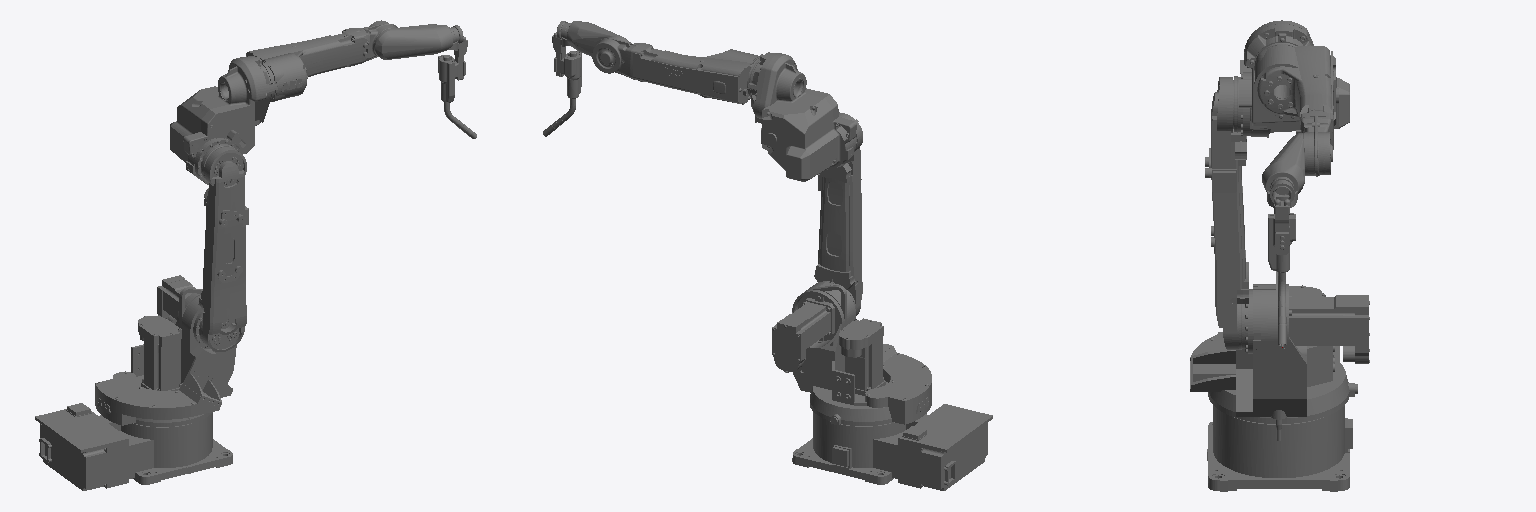
URDF robot description (abb_irb1520id):
<?xml version="1.0"?>
<robot name="abb_irb1520id" xmlns:xacro="http://ros.org/wiki/xacro">
  <!-- Added inertial properties from Mujoco model -->
  <link name="base_link">
    <inertial>
      <origin xyz="-0.122799 0.000948 -0.092564"/>
      <mass value="16.85"/>
      <inertia ixx="0.1790" iyy="0.4590" izz="0.5590" ixy="0" ixz="0" iyz="0"/>
    </inertial>
    <visual>
      <origin rpy="0 0 0" xyz="0 0 1.7993"/>
      <geometry>
        <mesh filename="./meshes/irb1520id/stl/visual/base.stl" scale="0.01 0.01 0.01"/>
      </geometry>
      <material name="abb_orange">
        <color rgba="0.5 0.5 0.5 1"/>
      </material>
    </visual>
    <collision>
      <origin rpy="0 0 0" xyz="0 0 1.7993"/>
      <geometry>
        <mesh filename="./meshes/irb1520id/stl/collision/base.stl" scale="0.01 0.01 0.01"/>
      </geometry>
    </collision>
  </link>

  <link name="link_1">
    <inertial>
      <origin xyz="0.057107 0.188932 -0.000607"/>
      <mass value="14.04"/>
      <inertia ixx="0.2485" iyy="0.2724" izz="0.3329" ixy="0" ixz="0" iyz="0"/>
    </inertial>
    <visual>
      <origin rpy="1.5708 0 0" xyz="0 0 1.2693"/>
      <geometry>
        <mesh filename="./meshes/irb1520id/stl/visual/link1.stl" scale="0.01 0.01 0.01"/>
      </geometry>
      <material name="abb_orange"/>
    </visual>
    <collision>
      <origin rpy="1.5708 0 0" xyz="0 0 1.2693"/>
      <geometry>
        <mesh filename="./meshes/irb1520id/stl/collision/link1.stl" scale="0.01 0.01 0.01"/>
      </geometry>
    </collision>
  </link>

  <joint name="joint_1" type="revolute">
    <origin rpy="0 0 0" xyz="0 0 0"/>
    <parent link="base_link"/>
    <child link="link_1"/>
    <axis xyz="0 0 -1"/>
    <limit effort="150" lower="-2.9670" upper="2.9670" velocity="3.142"/>
    <dynamics damping="0.5" friction="0.2"/>
  </joint>

  <link name="link_2">
    <inertial>
      <origin xyz="0.000705 0.290047 0.035494"/>
      <mass value="4.1091"/>
      <inertia ixx="0.1373" iyy="0.007032" izz="0.1407" ixy="0" ixz="0" iyz="0"/>
    </inertial>
    <visual>
      <origin rpy="1.5708 0 0" xyz="0 0 0"/>
      <geometry>
        <mesh filename="./meshes/irb1520id/stl/visual/link2.stl" scale="0.01 0.01 0.01"/>
      </geometry>
      <material name="abb_orange"/>
    </visual>
    <collision>
      <origin rpy="1.5708 0 0" xyz="0 0 0"/>
      <geometry>
        <mesh filename="./meshes/irb1520id/stl/collision/link2.stl" scale="0.01 0.01 0.01"/>
      </geometry>
    </collision>
  </link>

  <joint name="joint_2" type="revolute">
    <origin rpy="0 0 0" xyz="1.6 -0.9 4.5693"/>
    <parent link="link_1"/>
    <child link="link_2"/>
    <axis xyz="0 1 0"/>
    <limit effort="150" lower="-1.5708" upper="2.6180" velocity="3.142"/>
    <dynamics damping="0.5" friction="0.2"/>
  </joint>

  <link name="link_3">
    <inertial>
      <origin xyz="0.06548 0.078265 -0.134469"/>
      <mass value="0.07683"/>
      <inertia ixx="0.009718" iyy="0.008392" izz="0.01046" ixy="0" ixz="0" iyz="0"/>
    </inertial>
    <visual>
      <origin rpy="1.5708 0 0" xyz="0 0 0"/>
      <geometry>
        <mesh filename="./meshes/irb1520id/stl/visual/link3.stl" scale="0.01 0.01 0.01"/>
      </geometry>
      <material name="abb_orange"/>
    </visual>
    <collision>
      <origin rpy="1.5708 0 0" xyz="0 0 0"/>
      <geometry>
        <mesh filename="./meshes/irb1520id/stl/collision/link3.stl" scale="0.01 0.01 0.01"/>
      </geometry>
    </collision>
  </link>

  <joint name="joint_3" type="revolute">
    <origin rpy="0 0 0" xyz="0 -0.23 5.9255"/>
    <parent link="link_2"/>
    <child link="link_3"/>
    <axis xyz="0 1 0"/>
    <limit effort="150" lower="-1.7453" upper="1.3963" velocity="3.142"/>
    <dynamics damping="0.5" friction="0.2"/>
  </joint>

  <link name="link_4">
    <inertial>
      <origin xyz="-0.057844 0.001716 -0.257144"/>
      <mass value="0.01018"/>
      <inertia ixx="0.008611" iyy="0.008908" izz="0.008138" ixy="0" ixz="0" iyz="0"/>
    </inertial>
    <visual>
      <origin rpy="0 -1.5708 0" xyz="0 0 0"/>
      <geometry>
        <mesh filename="./meshes/irb1520id/stl/visual/link4.stl" scale="0.01 0.01 0.01"/>
      </geometry>
      <material name="abb_orange"/>
    </visual>
    <collision>
      <origin rpy="0 -1.5708 0" xyz="0 0 0"/>
      <geometry>
        <mesh filename="./meshes/irb1520id/stl/collision/link4.stl" scale="0.01 0.01 0.01"/>
      </geometry>
    </collision>
  </link>

  <joint name="joint_4" type="revolute">
    <origin rpy="1.5708 0 0" xyz="2.17 1.21677 2"/>
    <parent link="link_3"/>
    <child link="link_4"/>
    <axis xyz="1 0 0"/>
    <limit effort="150" lower="-2.7053" upper="2.7053" velocity="5.585"/>
    <dynamics damping="0.5" friction="0.2"/>
  </joint>

  <link name="link_5">
    <inertial>
      <origin xyz="0.079912 0.000066 0.025079"/>
      <mass value="0.004108"/>
      <inertia ixx="0.00005014" iyy="0.0002404" izz="0.0002399" ixy="0" ixz="0" iyz="0"/>
    </inertial>
    <visual>
      <origin rpy="0 0 0" xyz="0 0 0"/>
      <geometry>
        <mesh filename="./meshes/irb1520id/stl/visual/link5.stl" scale="0.01 0.01 0.01"/>
      </geometry>
      <material name="abb_orange"/>
    </visual>
    <collision>
      <origin rpy="0 0 0" xyz="0 0 0"/>
      <geometry>
        <mesh filename="./meshes/irb1520id/stl/collision/link5.stl" scale="0.01 0.01 0.01"/>
      </geometry>
    </collision>
  </link>

  <joint name="joint_5" type="revolute">
    <origin rpy="0 0 0" xyz="5.0637 0 -0.51885"/>
    <parent link="link_4"/>
    <child link="link_5"/>
    <axis xyz="0 0 1"/>
    <limit effort="150" lower="-2.3562" upper="2.3562" velocity="6.632"/>
    <dynamics damping="0.5" friction="0.2"/>
  </joint>

  <link name="link_6">
    <inertial>
      <origin xyz="0.000015 -0.000103 -0.013642"/>
      <mass value="0.000710"/>
      <inertia ixx="0.000005086" iyy="0.000005109" izz="0.000005635" ixy="0" ixz="0" iyz="0"/>
    </inertial>
    <visual>
      <origin rpy="0 1.5708 0" xyz="0 0 0"/>
      <geometry>
        <mesh filename="./meshes/irb1520id/stl/visual/link6.stl" scale="0.01 0.01 0.01"/>
      </geometry>
      <material name="abb_orange"/>
    </visual>
    <collision>
      <origin rpy="0 1.5708 0" xyz="0 0 0"/>
      <geometry>
        <mesh filename="./meshes/irb1520id/stl/collision/link6.stl" scale="0.01 0.01 0.01"/>
      </geometry>
    </collision>
  </link>

  <joint name="joint_6" type="revolute">
    <origin rpy="3.1416 3.1416 0" xyz="1.9 0 0.525"/>
    <parent link="link_5"/>
    <child link="link_6"/>
    <axis xyz="1 0 0"/>
    <limit effort="150" lower="-3.4907" upper="3.4907" velocity="8.029"/>
    <dynamics damping="0.5" friction="0.2"/>
  </joint>

  <link name="tool0">
    <inertial>
      <origin xyz="-0.001299 0.017065 0.125009"/>
      <mass value="0.0004342998"/>
      <inertia ixx="0.0003008" iyy="0.0002789" izz="0.00004155" ixy="0" ixz="0" iyz="0"/>
    </inertial>
    <visual>
      <origin rpy="0 1.5708 0" xyz="0.1 0 0"/>
      <geometry>
        <mesh filename="./meshes/irb1520id/stl/visual/torch.stl" scale="0.01 0.01 0.01"/>
      </geometry>
      <material name="abb_orange"/>
    </visual>
    <collision>
      <origin rpy="0 1.5708 0" xyz="0.1 0 0"/>
      <geometry>
        <mesh filename="./meshes/irb1520id/stl/collision/torch.stl" scale="0.01 0.01 0.01"/>
      </geometry>
    </collision>
  </link>

  <joint name="joint_6-tool0" type="fixed">
    <parent link="link_6"/>
    <child link="tool0"/>
    <origin rpy="0 0 1.5708" xyz="0 0 0"/>
  </joint>

  <link name="attachment">
    <visual>
      <origin xyz="0 0 0" rpy="0 0 0"/>
      <geometry>
        <cylinder radius="0.01" length="0.01"/>
      </geometry>
      <material name="red">
        <color rgba="1 0 0 1"/>
      </material>
    </visual>
  </link>

  <joint name="tool0-attachment" type="fixed">
    <parent link="tool0"/>
    <child link="attachment"/>
    <origin xyz="3.85893 1.09393 0" rpy="0 0 -0.383"/>
  </joint>
</robot>

--- What the picture shows (computed from the rendered views, not written in the file) ---
The picture shows the robot from 3 angles, left to right: view 1: azimuth 30°, elevation 25°; view 2: azimuth 150°, elevation 25°; view 3: azimuth 270°, elevation 25°; orthographic projection.
Robot: abb_irb1520id — 9 links, 8 joints (6 revolute, 2 fixed); root link base_link; default pose: all joints at 0.
Visible links, largest first — view 1: link_1, base_link, link_2, link_3, link_4, link_5, tool0; view 2: link_1, base_link, link_3, link_4, link_2, tool0, link_5; view 3: link_1, base_link, link_2, link_4, link_3, tool0, link_5.
Boxes of the visible links, x1,y1,x2,y2 form: link_1: (95, 275, 236, 426); base_link: (35, 403, 232, 490); link_2: (198, 147, 248, 351); link_3: (170, 56, 277, 184); link_4: (220, 20, 397, 101); link_5: (374, 24, 452, 59); tool0: (438, 37, 476, 138); link_1: (772, 281, 931, 425); base_link: (792, 404, 992, 490); link_3: (747, 52, 858, 181); link_4: (592, 36, 802, 104); link_2: (814, 112, 862, 315); tool0: (543, 32, 581, 136); link_5: (567, 21, 628, 56); link_1: (1190, 271, 1369, 440); base_link: (1207, 332, 1352, 491); link_2: (1205, 77, 1248, 349); link_4: (1254, 43, 1333, 176); link_3: (1233, 20, 1349, 137); tool0: (1267, 191, 1297, 346); link_5: (1262, 133, 1304, 194).
Size in the robot's own frame: 15.8 by 4.45 by 13.44 metres.
Meshes: 8 distinct files referenced, 8 mesh visuals loaded (8 binary STL).